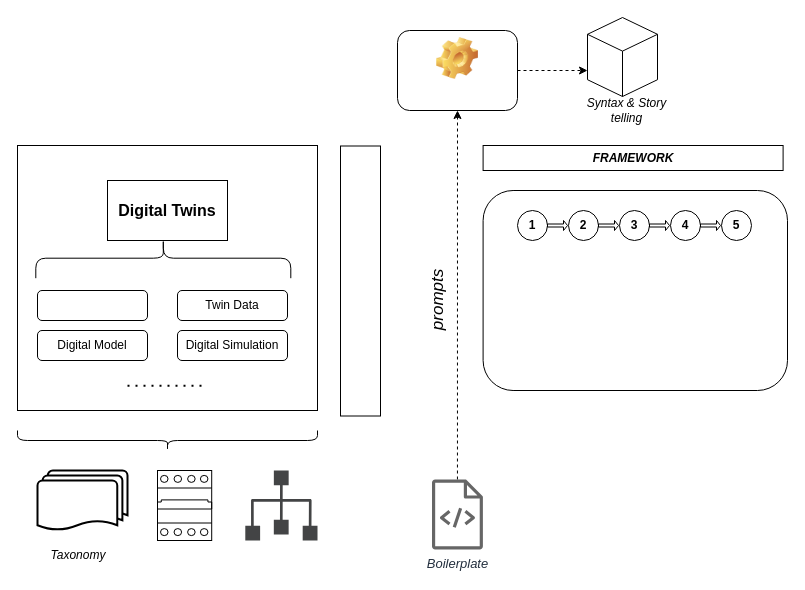
Some shapes in this 805 by 590 pixel diagram are drawn without their labels. The shapes that lost their labels are listed below. From the top down, each one's centre as x and y in pixels, then its label:
(x=457, y=70): LLM
(x=360, y=280): APIs
(x=92, y=305): Digital Shadow
(x=184, y=505): Architecture
(x=281, y=505): Methodology
